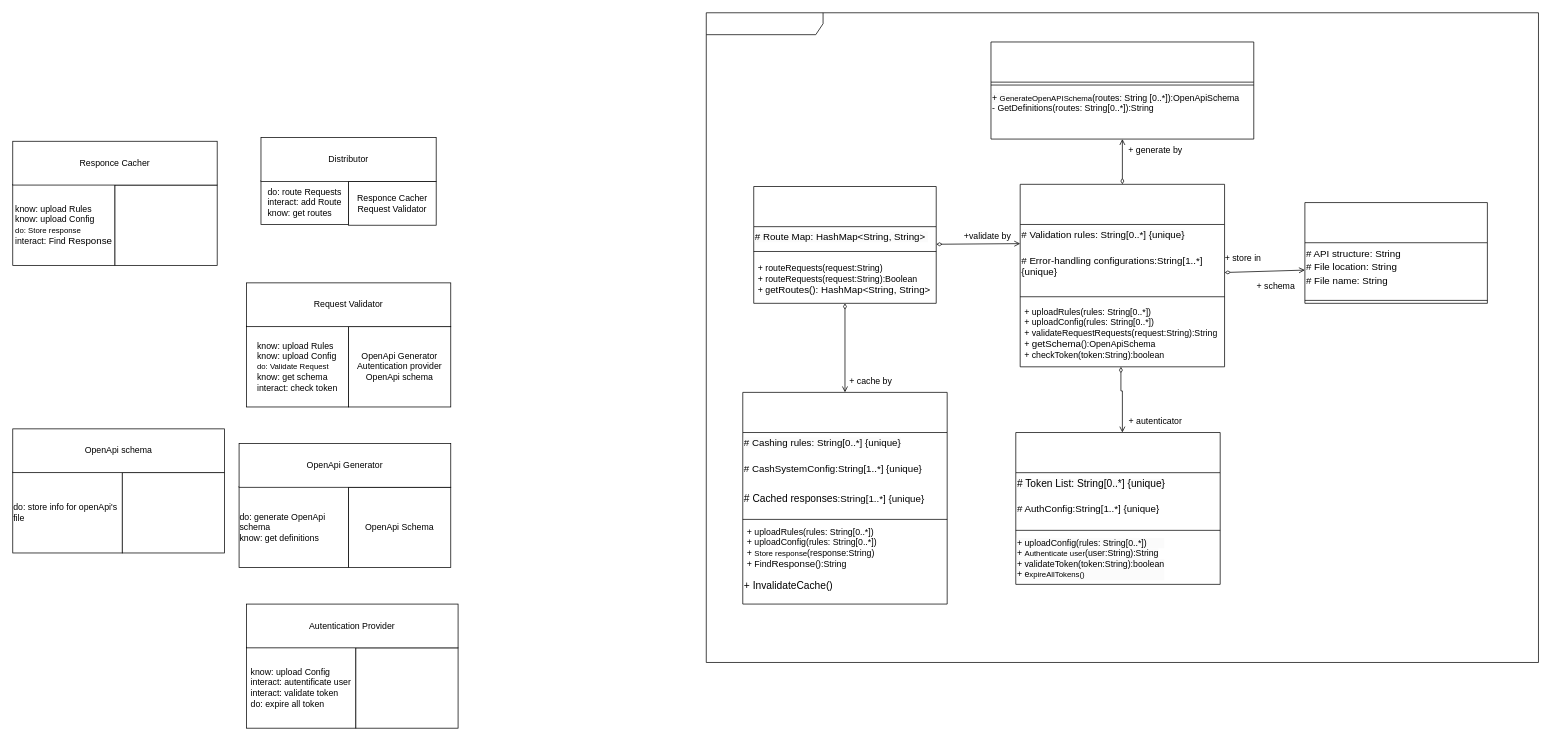
Some shapes in this 1551 by 741 pixel diagram are drawn without their labels. The box of each missing label's shape, as (x1, y1, x2, y2) in pixels:
<<entity>>Responce Cacher: (742, 392, 947, 604)
<<root>>Autentication Provider: (1015, 432, 1220, 584)
<<root>>Distributor: (753, 186, 936, 303)
<<root>>RequestValidator: (1019, 184, 1225, 367)
<<service>>OpenApi Generator: (990, 41, 1254, 139)
<<value>>OpenApi Schema: (1304, 202, 1487, 303)
DDD: (706, 12, 1538, 662)
